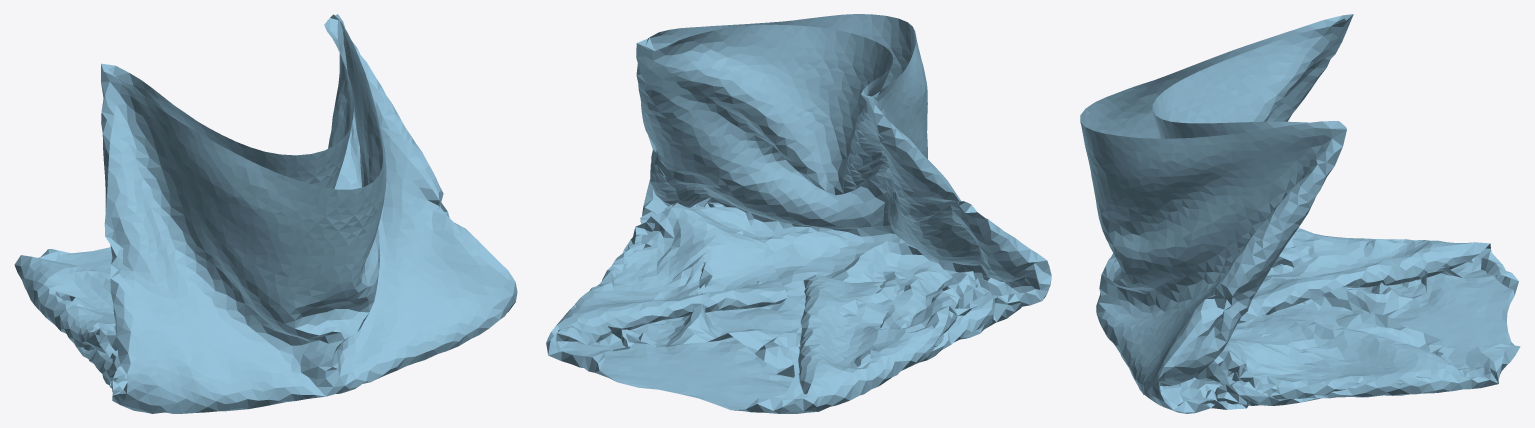
The model's file is frame_15.glb.
3 renders of one model, left to right at view 1: azimuth 30°, elevation 25°; view 2: azimuth 150°, elevation 25°; view 3: azimuth 270°, elevation 25°, orthographic. The views are drawn at different scales.
Visible parts, largest first — view 1: frame_15.obj; view 2: frame_15.obj; view 3: frame_15.obj.
Boxes of the visible parts, bbox=[...] form: frame_15.obj: bbox=[14, 14, 517, 413]; frame_15.obj: bbox=[546, 14, 1051, 413]; frame_15.obj: bbox=[1080, 14, 1520, 413].
Size of the model in its own units: 1.1 by 0.7065 by 1.07.
